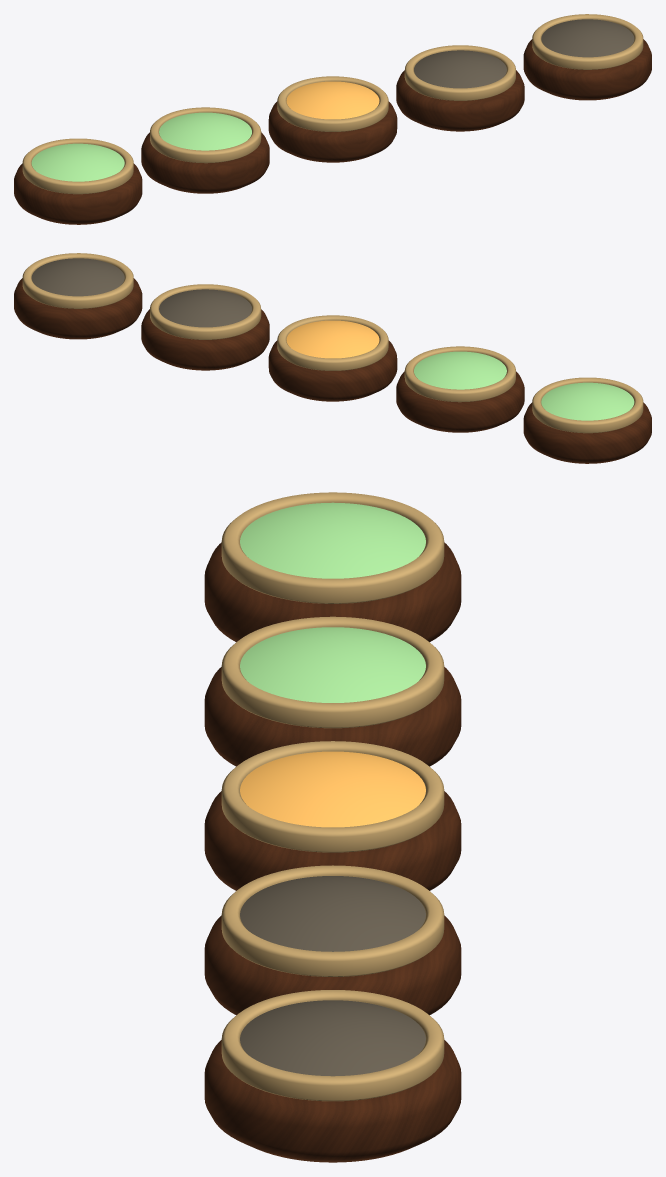
The model's file is cargo_art_06_progress_lamps.glb.
The picture shows the model from 3 angles, top to bottom: view 1: azimuth 30°, elevation 25°; view 2: azimuth 150°, elevation 25°; view 3: azimuth 270°, elevation 25°; orthographic projection. The views are drawn at different scales.
Parts seen in each view (by area): view 1: step_3_base, step_5_base, step_1_base, step_4_base, step_2_base, step_3_lens, step_4_lens, step_5_lens, step_2_lens, step_1_lens, step_1_bezel, step_5_bezel (+3 smaller); view 2: step_3_base, step_5_base, step_1_base, step_4_base, step_2_base, step_3_lens, step_4_lens, step_5_lens, step_2_lens, step_1_lens, step_1_bezel, step_5_bezel (+3 smaller); view 3: step_5_base, step_3_lens, step_5_lens, step_1_lens, step_2_lens, step_4_lens, step_2_base, step_4_base, step_3_base, step_1_base, step_5_bezel, step_1_bezel (+3 smaller).
Part boxes in pixels (x1,y1,x2,y2): step_3_base: (268,101,397,162); step_5_base: (523,39,651,100); step_1_base: (14,163,142,224); step_4_base: (396,70,524,131); step_2_base: (141,132,269,193); step_3_lens: (286,81,379,119); step_4_lens: (414,50,506,88); step_5_lens: (541,19,634,57); step_2_lens: (159,112,251,150); step_1_lens: (31,143,124,181); step_1_bezel: (22,138,133,194); step_5_bezel: (532,14,643,69); step_3_base: (268,340,397,401); step_5_base: (14,278,142,339); step_1_base: (523,402,651,463); step_4_base: (141,309,269,370); step_2_base: (396,371,524,432); step_3_lens: (286,320,379,358); step_4_lens: (159,289,251,327); step_5_lens: (31,258,124,296); step_2_lens: (414,351,506,389); step_1_lens: (541,382,634,420); step_1_bezel: (532,377,643,433); step_5_bezel: (22,253,133,308); step_5_base: (204,1040,461,1162); step_3_lens: (240,751,425,827); step_5_lens: (240,1000,425,1076); step_1_lens: (240,502,425,578); step_2_lens: (240,627,425,702); step_4_lens: (240,876,425,951); step_2_base: (204,667,461,766); step_4_base: (204,915,461,1015); step_3_base: (204,791,461,890); step_1_base: (204,542,461,642); step_5_bezel: (221,990,444,1101); step_1_bezel: (221,492,444,603).
Size of the model in its own units: 0.268 by 0.0198 by 0.048.
5 materials, 1 textured.
